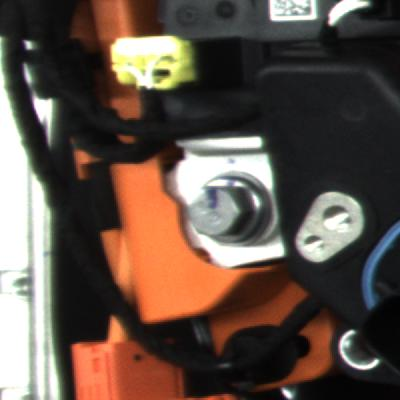nut_b: (184, 161, 278, 255)
